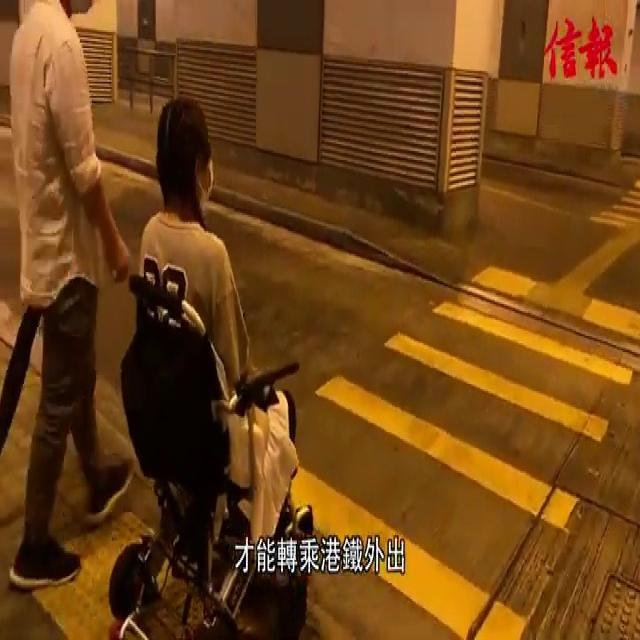wheelchairs: (104, 250, 315, 640)
